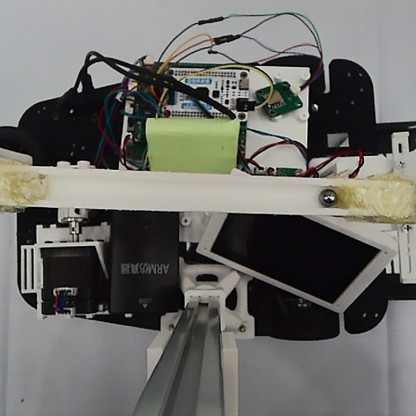ironball: (317, 185, 338, 208)
